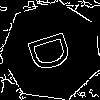D: (26, 26, 82, 75)
